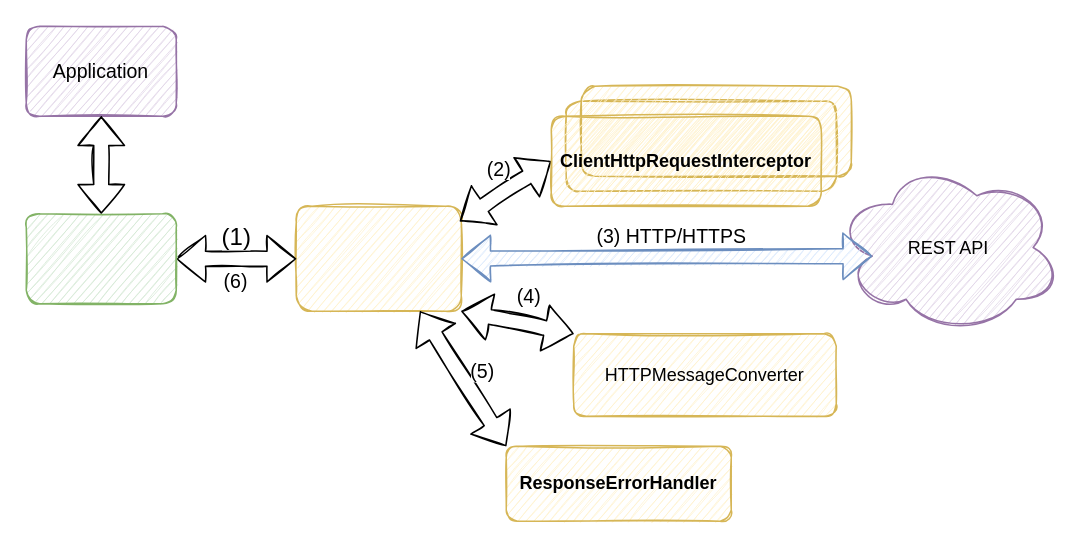
The diagram is 1088 pixels wide and 548 high, and some of its shapes have lost their labels. The centre of each missing label's shape, as x and y in pixels:
"REST Client Implementation" belongs at [100,258].
"REST Template" belongs at [378,258].
